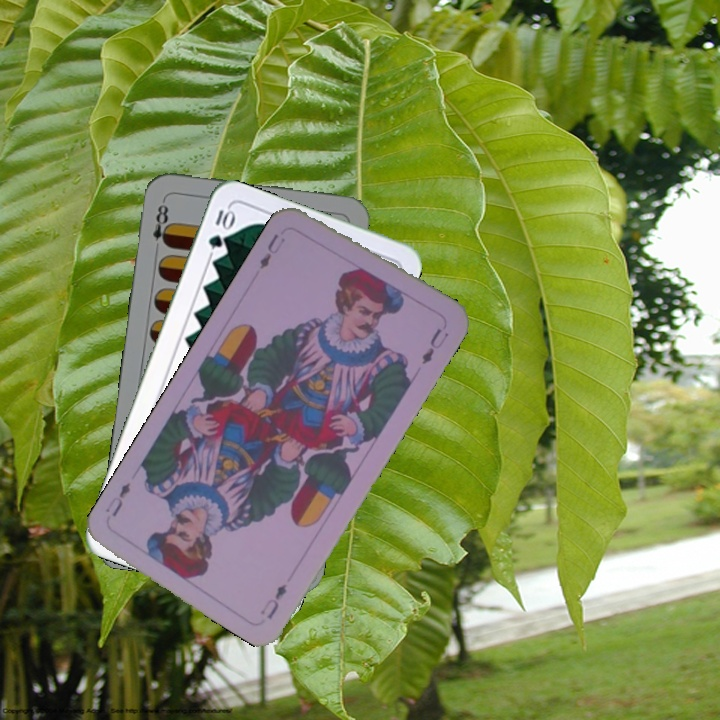E8: (148, 196, 173, 249)
EU: (256, 579, 289, 622), (255, 230, 288, 272)
G10: (204, 204, 236, 252)
